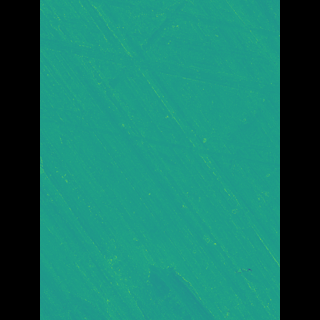Loch: (69, 30, 252, 111), (99, 0, 251, 93), (69, 115, 250, 176)
